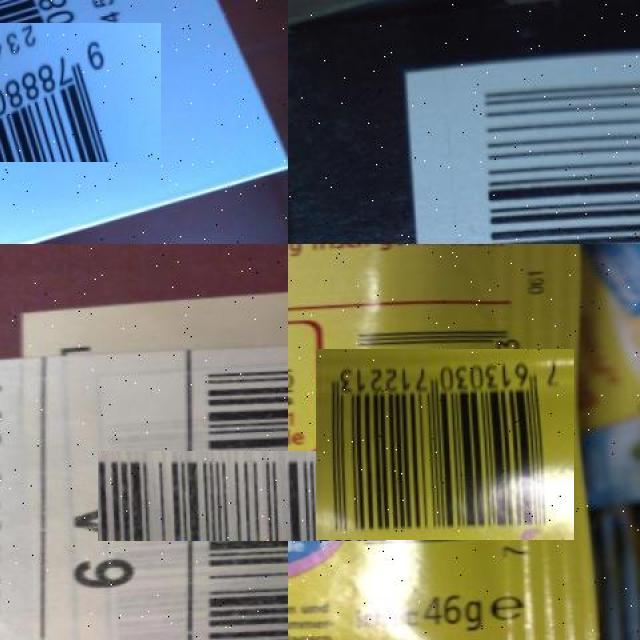Barcode: (332, 332, 557, 557), (406, 54, 640, 244), (148, 401, 337, 591), (0, 12, 150, 173)
